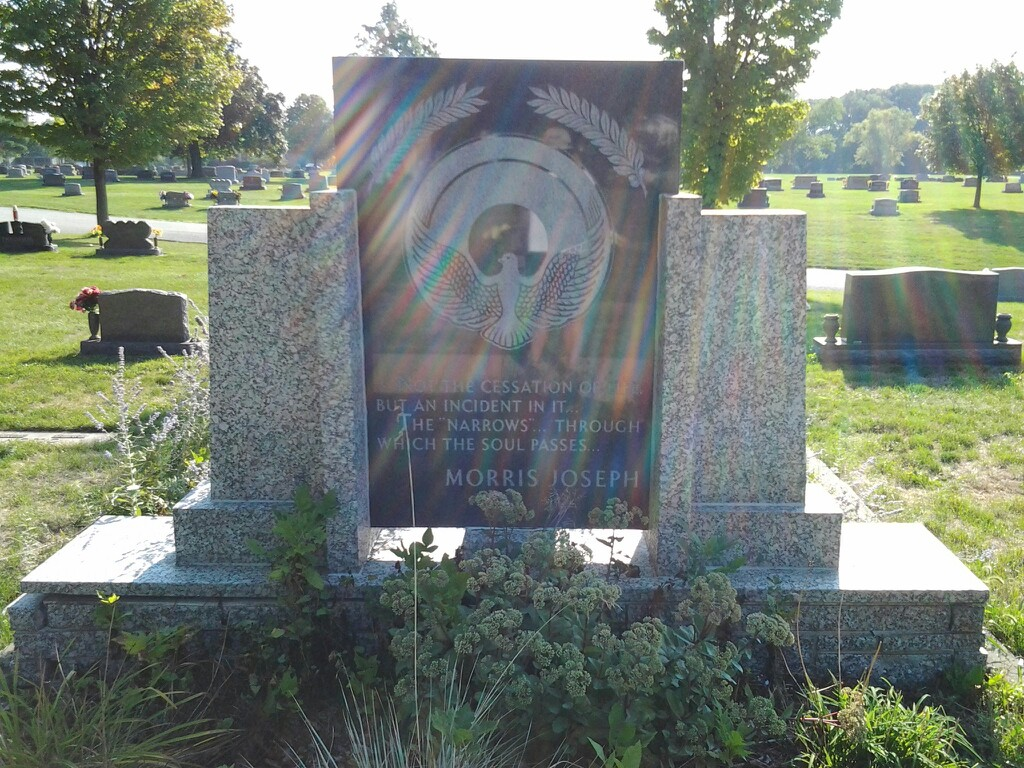upright: (5, 56, 984, 687)
